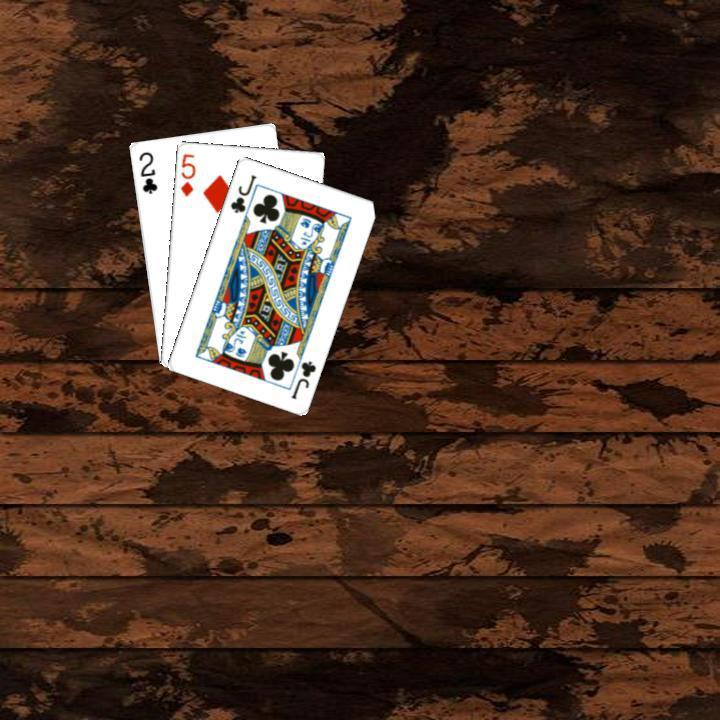2: (134, 147, 159, 196)
5: (176, 149, 197, 198)
J: (226, 170, 258, 215), (286, 356, 318, 401)
